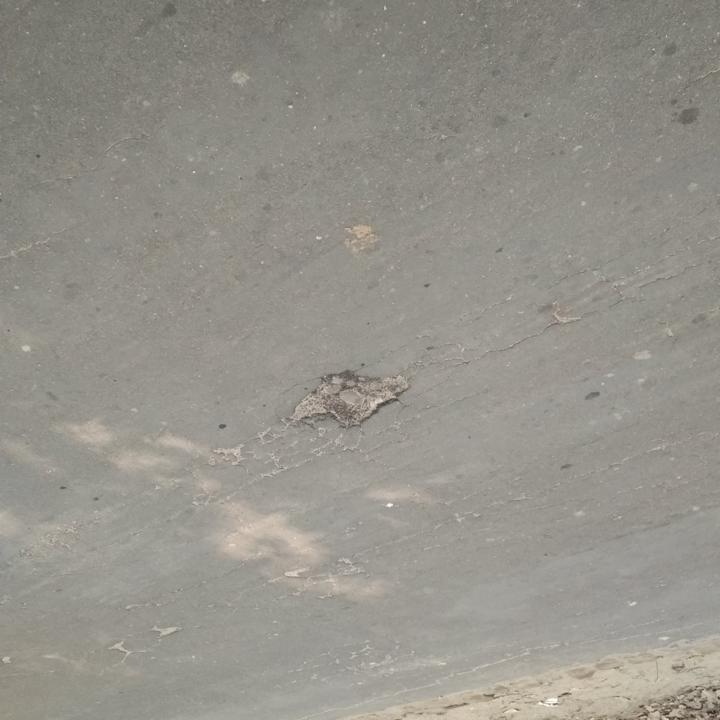pothole: (285, 372, 417, 434)
